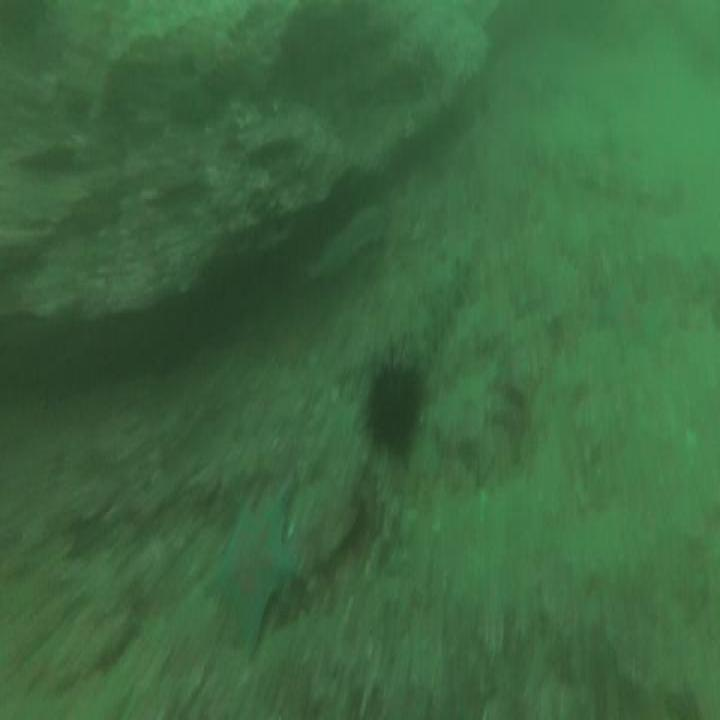echinus: (368, 361, 419, 455)
starfish: (204, 494, 295, 656)
